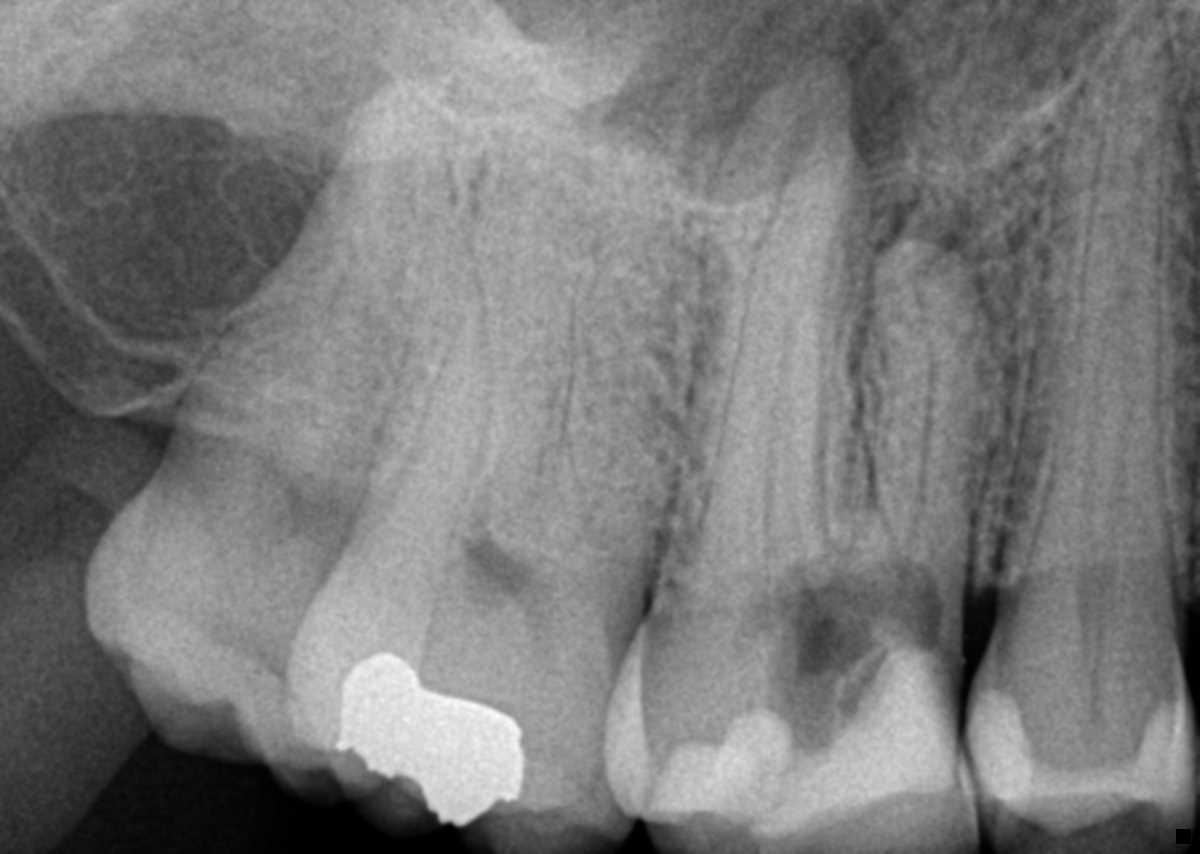Apical Lesion: (605, 0, 929, 211), (860, 175, 989, 292)
Distal Root: (706, 125, 854, 581), (407, 163, 591, 518)
Main Root: (180, 69, 488, 577), (999, 34, 1142, 580)
Mesial Canal: (554, 319, 654, 551), (896, 260, 937, 579)
Mesial Root: (532, 128, 698, 570), (849, 239, 986, 597)
Palatal Root: (640, 49, 915, 661), (367, 0, 631, 567)
decay: (737, 551, 939, 751)
